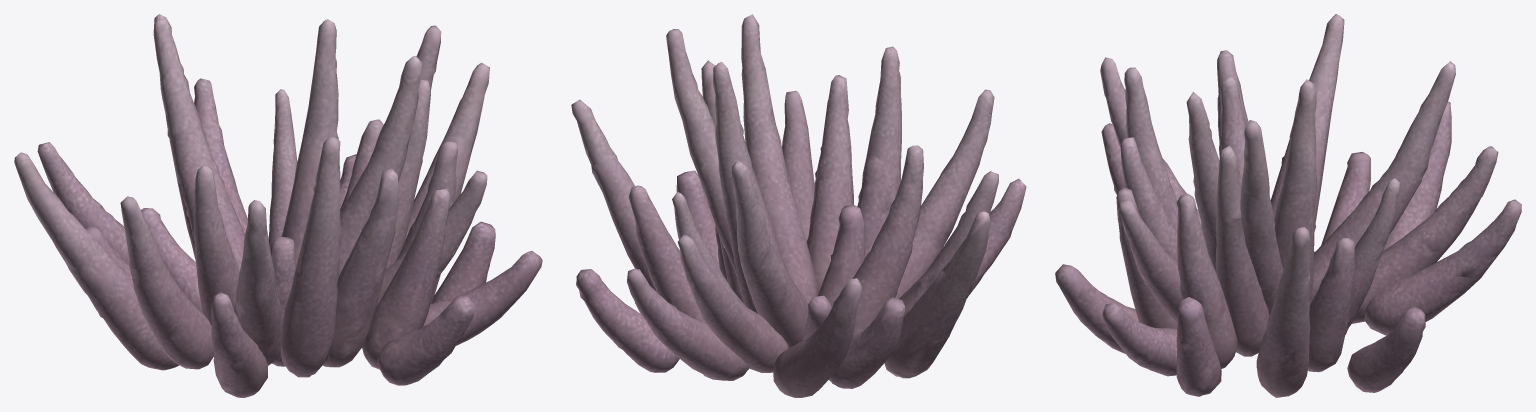
The model's file is Digitate03-transformed.glb.
The picture shows the model from 3 angles, left to right: view 1: azimuth 30°, elevation 25°; view 2: azimuth 150°, elevation 25°; view 3: azimuth 270°, elevation 25°; orthographic projection. The views are drawn at different scales.
Visible parts, largest first — view 1: Digitate03; view 2: Digitate03; view 3: Digitate03.
Part boxes in pixels (x1,y1,x2,y2): Digitate03: (14,14,542,397); Digitate03: (571,14,1026,397); Digitate03: (1055,14,1521,397).
Size of the model in its own units: 4.83 by 3.14 by 4.46.
Materials: 1 (1 with a texture image).
